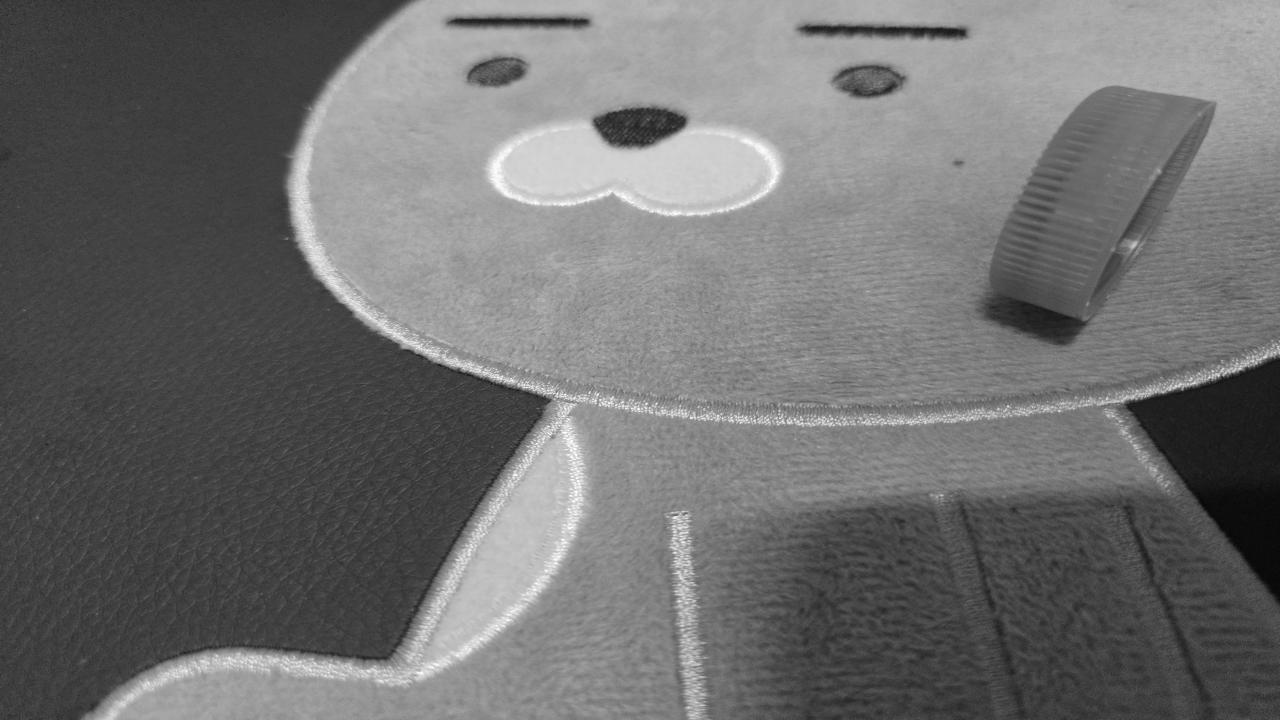bottle_cap: (982, 82, 1223, 328)
